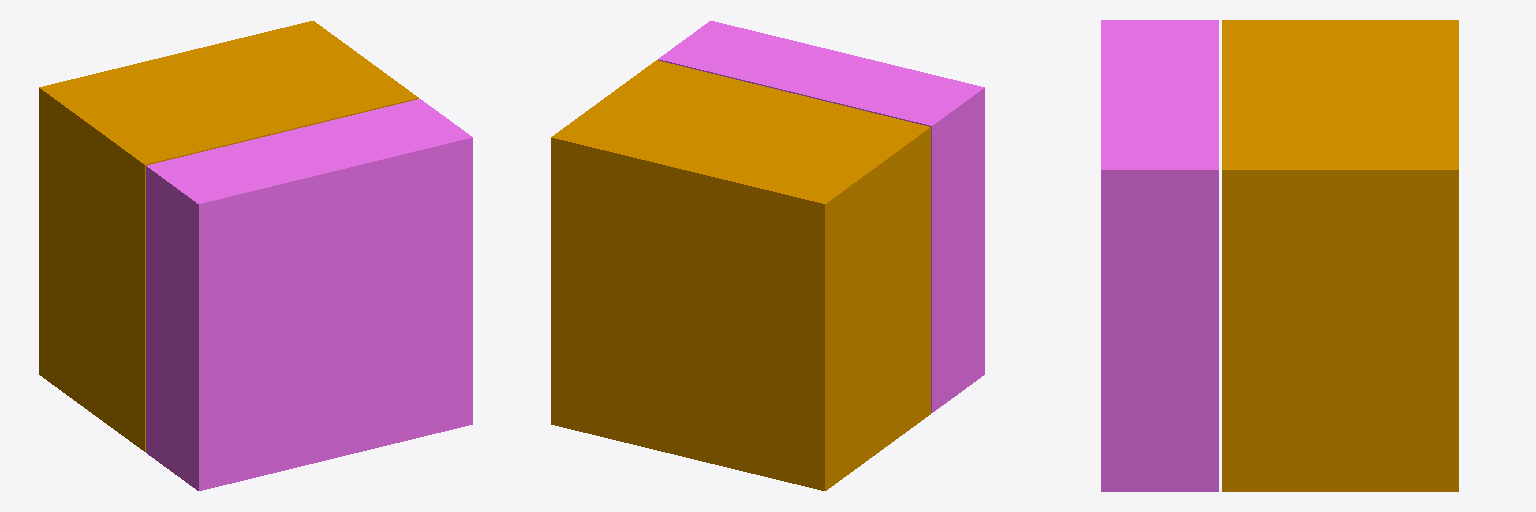
robot.urdf — cube:
<robot name="cube">
  <link name="base_cube">
      <visual>
        <geometry>
            <box size="0.06 0.04 0.06"/>
        </geometry>
      </visual>
       <collision>
      <geometry>
                 <box size="0.06 0.04 0.06"/>
      </geometry>
    </collision>
  </link>

  <link name="bout_cube">
      <visual>
        <geometry>
            <box size="0.06 0.02 0.06"/>
        </geometry>
        <material name="pink">
          <color rgba="1.0 0.5 1.0 1.0"/>
        </material>
      </visual>
       <collision>
      <geometry>
                 <box size="0.06 0.02 0.02"/>
      </geometry>
    </collision>
  </link>

  <joint name="base_to_right_leg" type="continuous">
    <axis xyz="0 0 -1"/>
    <parent link="base_cube"/>
    <child link="bout_cube"/>
    <origin xyz="0 -0.0305 0"/>
    <limit effort="100" velocity="100"/>
    <joint_properties damping="0.0" friction="0.0"/>
  </joint>

</robot>

--- Facts derived from the render (not from the file) ---
The picture shows the robot from 3 angles, left to right: view 1: azimuth 30°, elevation 25°; view 2: azimuth 150°, elevation 25°; view 3: azimuth 270°, elevation 25°; orthographic projection.
Robot: cube — 2 links, 1 joints (1 continuous); root link base_cube; default pose: every joint at zero.
Visible links, largest first — view 1: bout_cube, base_cube; view 2: base_cube, bout_cube; view 3: base_cube, bout_cube.
Boxes of the visible links, x1,y1,x2,y2 form: bout_cube: (146,99,472,490); base_cube: (39,21,418,451); base_cube: (551,60,930,490); bout_cube: (658,21,984,412); base_cube: (1222,20,1458,491); bout_cube: (1101,20,1218,491).
Size in the robot's own frame: 0.06 by 0.0605 by 0.06 metres.
Geometry: primitives only (box / cylinder / sphere), no mesh files.